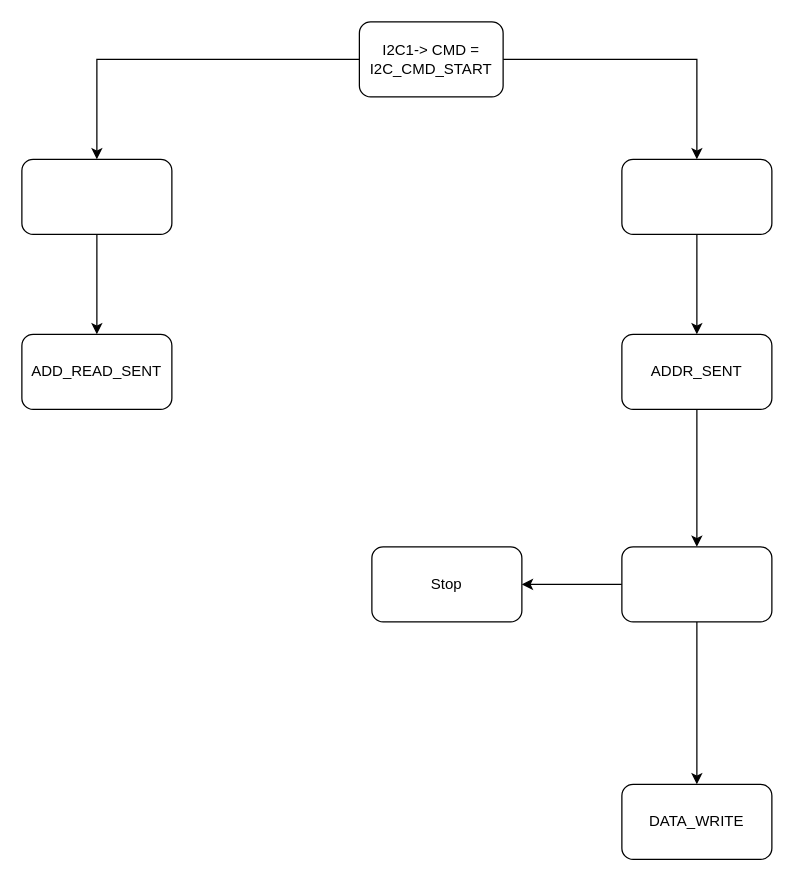
Some shapes in this 794 by 881 pixel diagram are drawn without their labels. The shapes that lost their labels are listed below. From the top down, each one's box as (x1, y1, x2, y2) in pixels, then its label:
(21, 158, 172, 234): READ
(621, 158, 772, 234): WRITE
(621, 546, 772, 622): REG_SENT
